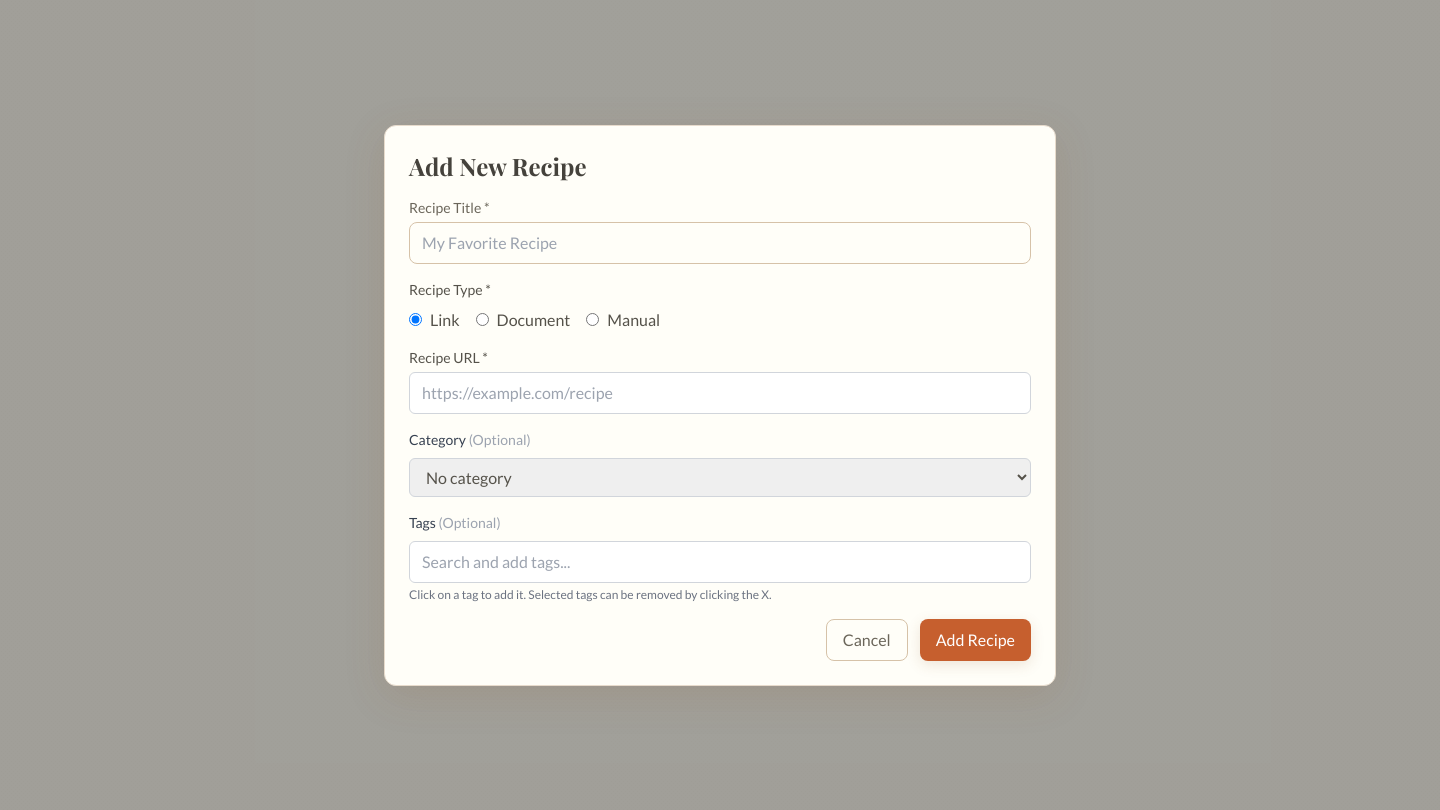
Test case: RecipeForm › should show content textarea when manual type is selected
Step 1. Click the radio button labelled "Manual" → (593, 320), box [586,313,599,326]
(page scrolled)
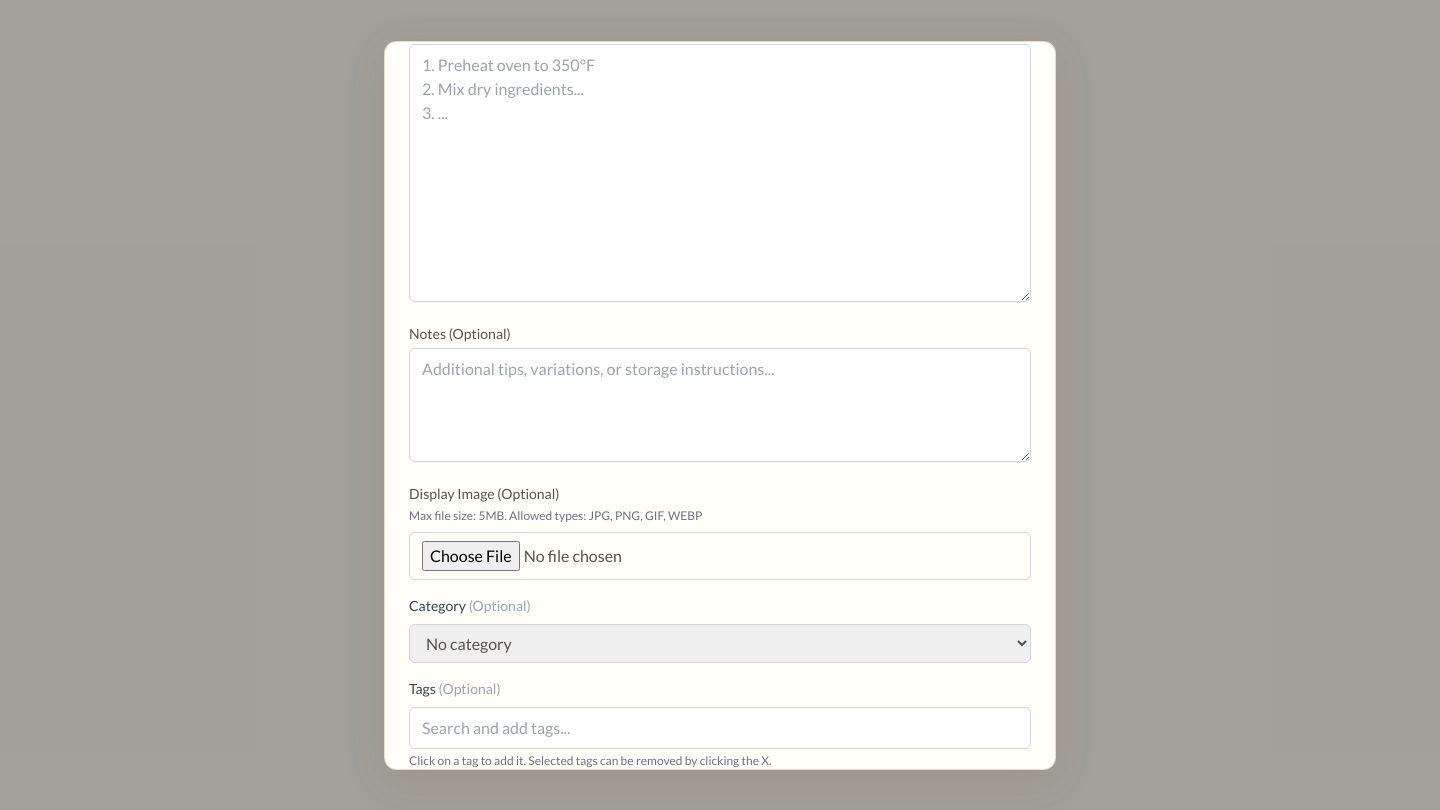
Result: the text box labelled "Instructions *" is shown at [409,44,1031,302]
Result: the text box labelled "Notes (Optional)" is shown at [409,348,1031,462]
